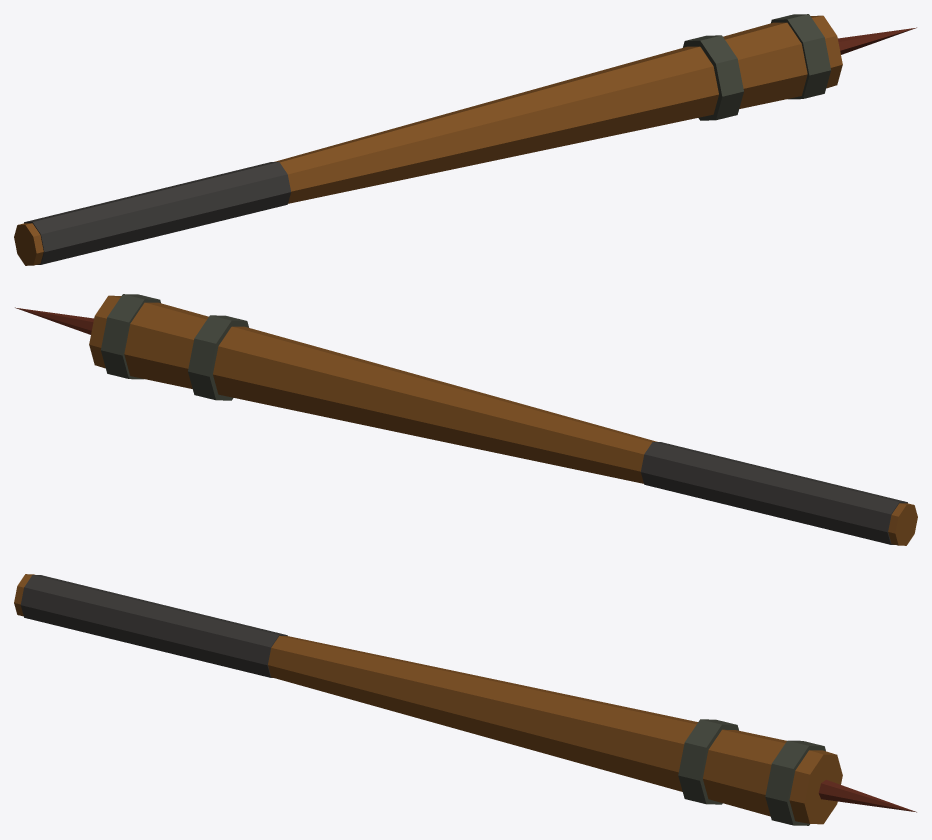
The model's file is held_goedendag.glb.
The picture shows the model from 3 angles, top to bottom: view 1: azimuth 30°, elevation 25°; view 2: azimuth 150°, elevation 25°; view 3: azimuth 330°, elevation 25°; orthographic projection.
Visible parts, largest first — view 1: post, grip, band_83, band_95, spike; view 2: post, grip, band_83, band_95, spike; view 3: post, grip, band_83, band_95, spike.
Part boxes in pixels (<box>): post: <box>14,15,842,265</box>; grip: <box>24,162,290,264</box>; band_83: <box>683,35,743,120</box>; band_95: <box>771,14,830,99</box>; spike: <box>837,27,916,54</box>; post: <box>89,295,917,545</box>; grip: <box>641,442,907,544</box>; band_83: <box>188,315,248,400</box>; band_95: <box>101,294,160,379</box>; spike: <box>15,307,94,334</box>; post: <box>14,574,842,824</box>; grip: <box>20,575,287,677</box>; band_83: <box>678,719,738,804</box>; band_95: <box>765,740,825,825</box>; spike: <box>818,779,916,812</box>.
Size of the model in its own units: 1.23 by 0.1053 by 0.1053.
